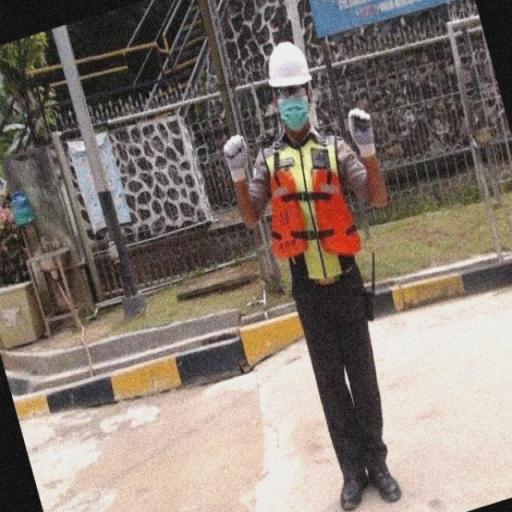Person: (212, 25, 426, 511)
boots: (333, 463, 372, 512), (368, 452, 405, 502)
gloves: (337, 97, 383, 158), (221, 130, 259, 176)
helmet: (258, 39, 324, 91)
vest: (262, 134, 366, 282)
